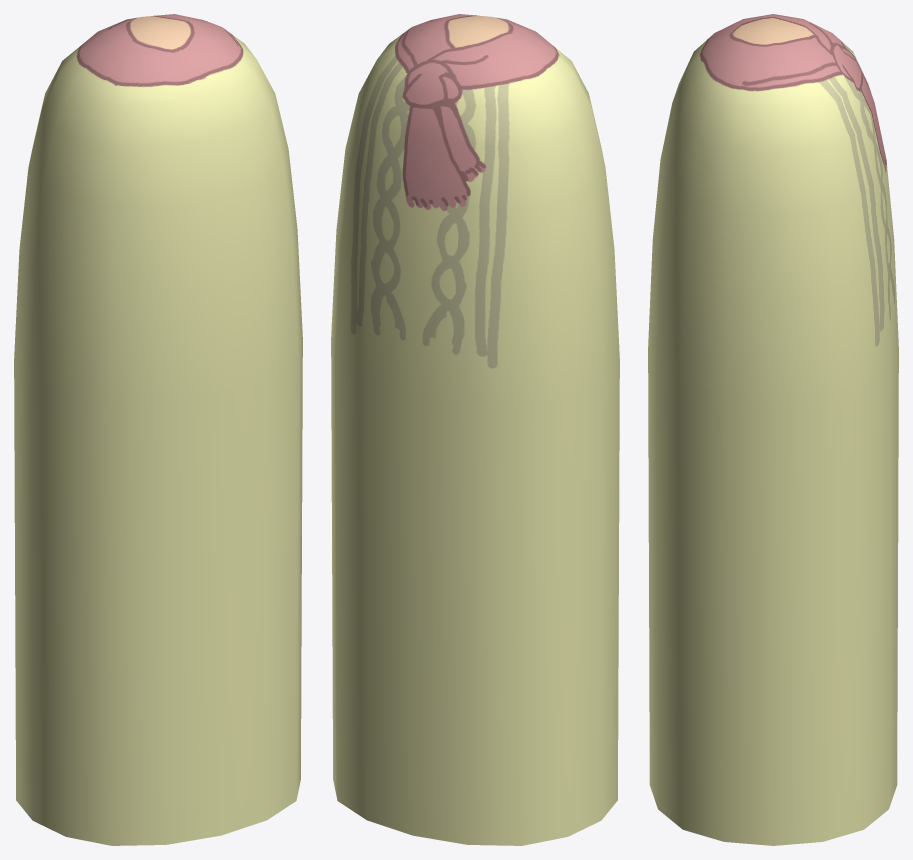
Rendered from Oden_Person_Model4.gltf.
3 renders of one model, left to right at view 1: azimuth 30°, elevation 25°; view 2: azimuth 150°, elevation 25°; view 3: azimuth 270°, elevation 25°, orthographic.
Parts seen in each view (by area): view 1: Oden_Person_Model4; view 2: Oden_Person_Model4; view 3: Oden_Person_Model4.
Part boxes in pixels (box(x1,y1,x2,y2)): Oden_Person_Model4: box(14, 14, 302, 845); Oden_Person_Model4: box(331, 14, 619, 845); Oden_Person_Model4: box(648, 14, 898, 845).
Bounding box in the file's own units: 5.63 × 16.14 × 4.84.
1 material, 1 textured.
